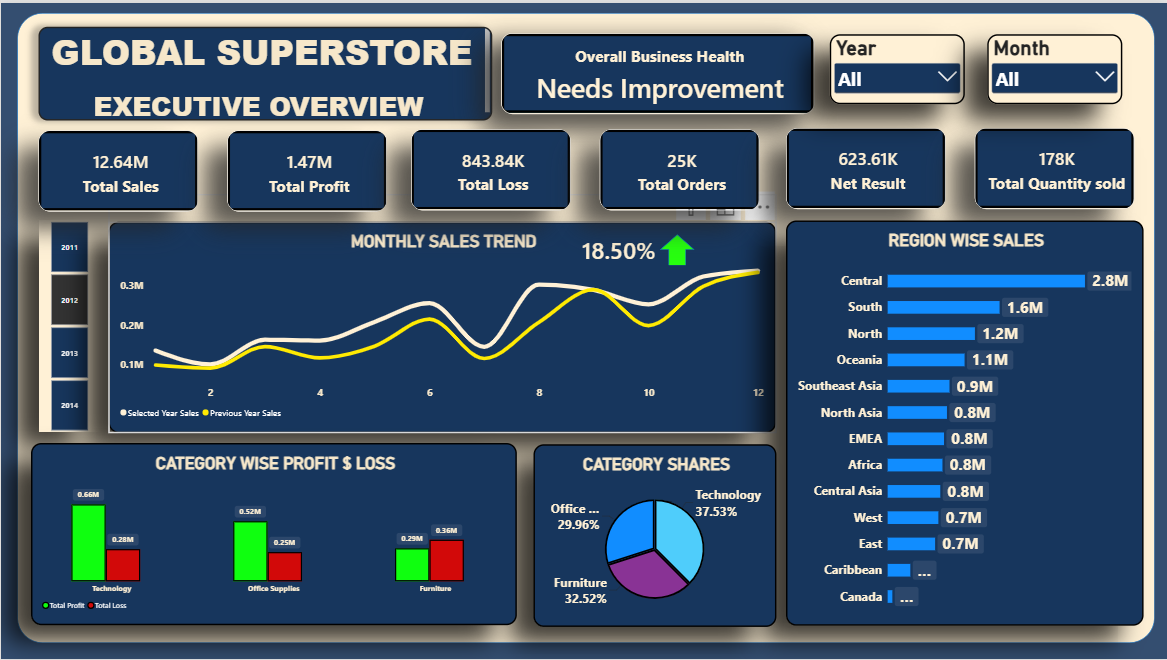

What the dashboard file says about the page in this screenshot:
{"tool":"powerbi","page":{"name":"Executive Overview ","canvas":[1920,1080],"ordinal":0},"visuals":[{"type":"shape","box":[26.8,16.5,1873.1,1037.4],"z":0},{"type":"textbox","box":[62.2,39.7,747.2,154.4],"z":0,"group":"g4"},{"type":"clusteredBarChart","title":"REGION WISE SALES ","fields":{"Category":["Global_Superstore2.Region"],"Y":["Global_Superstore2.Total Sales"]},"box":[1293.4,359.8,584.6,673.1],"z":0,"group":"g5"},{"type":"lineChart","title":"MONTHLY SALES TREND","fields":{"Category":["Date.Month"],"Y":["Global_Superstore2.Selected Year Sales","Global_Superstore2.Previous Year Sales"]},"box":[177,360.2,1099.1,347.9],"z":0,"group":"g3"},{"type":"clusteredColumnChart","title":"CATEGORY WISE PROFIT $ LOSS","fields":{"Category":["Global_Superstore2.Category"],"Y":["Global_Superstore2.Total Profit","Global_Superstore2.Total Loss Amount"]},"box":[49.4,724.5,800.2,300],"z":0,"group":"g2"},{"type":"group","id":"g1","title":"Group 1","box":[876,726.3,400.2,300.5],"z":0,"group":"g6"},{"type":"pieChart","title":"CATEGORY SHARES","fields":{"Category":["Global_Superstore2.Category"],"Y":["Global_Superstore2.Total Sales"]},"box":[876,726.3,400.2,300.5],"z":0,"group":"g1"},{"type":"cardVisual","fields":{"Data":["Global_Superstore2.Overall Business Health"]},"box":[823.8,50.6,516.6,133.8],"z":1000,"group":"g4"},{"type":"cardVisual","fields":{"Data":["Global_Superstore2.Sales Growth %"]},"box":[939.8,314.9,166.8,183],"z":1000,"group":"g3"},{"type":"slicer","title":"MONTHLY SALES TREND","fields":{"Values":["Date.Year"]},"box":[61.7,358.1,100.9,347.9],"z":1000},{"type":"group","id":"g2","title":"Group 1","box":[49.4,724.5,800.2,300],"z":1000,"group":"g6"},{"type":"cardVisual","fields":{"Data":["Global_Superstore2.Total Sales"]},"box":[61.7,209.9,263.5,133.8],"z":2000,"group":"g4"},{"type":"group","id":"g3","title":"Group 1","box":[177,314.9,1099.1,393.1],"z":2000},{"type":"shape","box":[1084.7,380.8,57.6,51.5],"z":2000,"group":"g3"},{"type":"group","id":"g4","title":"Group 2","box":[61.7,39.7,1804.6,304],"z":3000},{"type":"cardVisual","fields":{"Data":["Global_Superstore2.Total Profit"]},"box":[372.5,209.9,263.5,133.8],"z":3000,"group":"g4"},{"type":"cardVisual","fields":{"Data":["Global_Superstore2.Total Loss Amount"]},"box":[676,208.4,263.5,133.8],"z":4000,"group":"g4"},{"type":"group","id":"g5","title":"Group 1","box":[1293.4,359.8,584.6,673.1],"z":4000},{"type":"cardVisual","fields":{"Data":["Global_Superstore2.Total Orders"]},"box":[986.8,208.4,263.5,133.8],"z":5000,"group":"g4"},{"type":"group","id":"g6","title":"Group 3","box":[49.4,724.5,1226.8,302.6],"z":5000},{"type":"slicer","title":"MONTHLY SALES TREND","fields":{"Values":["Date.Year"]},"box":[1364.7,51.5,222.3,115.3],"z":6000},{"type":"cardVisual","fields":{"Data":["Global_Superstore2.loss pct"]},"box":[1292,206.9,263.5,133.8],"z":6000,"group":"g4"},{"type":"slicer","title":"MONTHLY SALES TREND","fields":{"Values":["Date.Date.Variation.Date Hierarchy.Month"]},"box":[1624,51.5,222.3,115.3],"z":7000},{"type":"cardVisual","fields":{"Data":["Global_Superstore2.Profit Margin %"]},"box":[1602.8,206.9,263.5,133.8],"z":7000,"group":"g4"}]}

Visuals, with their boxes in screenshot pixels (x1, y1, x2, y2), scaled from the page's 1920x1080 canvas onto the 1167x660 screenshot:
shape: BBox(16, 10, 1155, 644)
textbox: BBox(38, 24, 492, 119)
"REGION WISE SALES " clusteredBarChart: BBox(786, 220, 1141, 631)
"MONTHLY SALES TREND" lineChart: BBox(108, 220, 776, 433)
"CATEGORY WISE PROFIT $ LOSS" clusteredColumnChart: BBox(30, 443, 516, 626)
"Group 1" group: BBox(532, 444, 776, 627)
"CATEGORY SHARES" pieChart: BBox(532, 444, 776, 627)
cardVisual - Global_Superstore2.Overall Business Health: BBox(501, 31, 815, 113)
cardVisual - Global_Superstore2.Sales Growth %: BBox(571, 192, 673, 304)
"MONTHLY SALES TREND" slicer: BBox(38, 219, 99, 431)
"Group 1" group: BBox(30, 443, 516, 626)
cardVisual - Global_Superstore2.Total Sales: BBox(38, 128, 198, 210)
"Group 1" group: BBox(108, 192, 776, 433)
shape: BBox(659, 233, 694, 264)
"Group 2" group: BBox(38, 24, 1134, 210)
cardVisual - Global_Superstore2.Total Profit: BBox(226, 128, 387, 210)
cardVisual - Global_Superstore2.Total Loss Amount: BBox(411, 127, 571, 209)
"Group 1" group: BBox(786, 220, 1141, 631)
cardVisual - Global_Superstore2.Total Orders: BBox(600, 127, 760, 209)
"Group 3" group: BBox(30, 443, 776, 628)
"MONTHLY SALES TREND" slicer: BBox(829, 31, 965, 102)
cardVisual - Global_Superstore2.loss pct: BBox(785, 126, 945, 208)
"MONTHLY SALES TREND" slicer: BBox(987, 31, 1122, 102)
cardVisual - Global_Superstore2.Profit Margin %: BBox(974, 126, 1134, 208)
